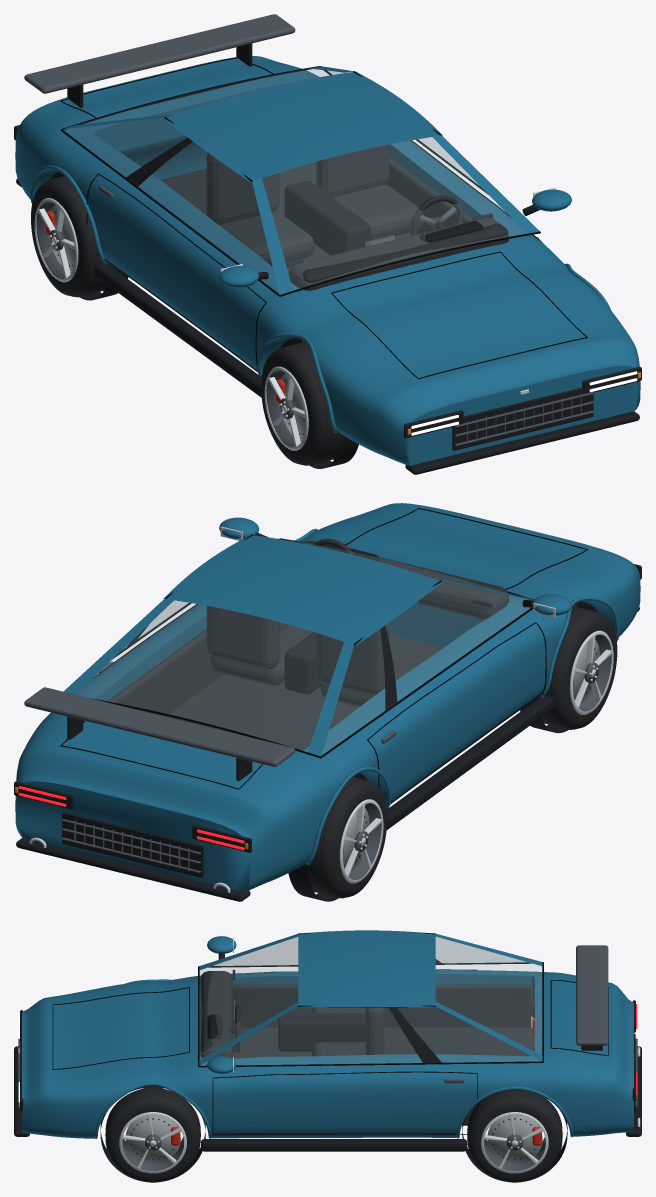
3 views of the same model, one above another, from view 1: azimuth 30°, elevation 25°; view 2: azimuth 150°, elevation 25°; view 3: azimuth 270°, elevation 25° (orthographic). The views are drawn at different scales.
Parts seen in each view (by area): view 1: Sculpted body shell, Windshield, Painted roof, Side glass, Rear aero wing, Interior dashboard, Tire.002, Interior centre console, Tire, Rocker aero sill, Front grille housing, Interior seat back (+27 smaller); view 2: Sculpted body shell, Rear glass, Painted roof, Side glass, Interior cabin floor, Rear aero wing, Interior door card.001, Tire, Tire.002, Interior seat back.001, Rear diffuser grille, Rocker aero sill (+28 smaller); view 3: Sculpted body shell, Side glass.001, Painted roof, Rear glass, Interior door card, Windshield, Interior cabin floor, Tire.003, Tire.001, Rocker aero sill.001, Rear aero wing, Interior centre console (+30 smaller).
Boxes of the visible parts, x1,y1,x2,y2 form: Sculpted body shell: (15,56,640,465); Windshield: (262,137,525,290); Painted roof: (171,72,435,179); Side glass: (64,118,278,293); Rear aero wing: (24,14,295,93); Interior dashboard: (289,217,508,290); Tire.002: (261,342,340,465); Interior centre console: (284,180,371,255); Tire: (31,176,110,297); Rocker aero sill: (94,263,261,397); Front grille housing: (452,387,593,450); Interior seat back: (206,152,279,224); Sculpted body shell: (15,503,640,891); Rear glass: (76,600,343,751); Painted roof: (170,536,435,642); Side glass: (322,582,529,754); Interior cabin floor: (165,625,443,750); Rear aero wing: (24,687,295,766); Interior door card.001: (107,622,289,716); Tire: (307,777,387,898); Tire.002: (538,606,617,729); Interior seat back.001: (206,606,279,669); Rear diffuser grille: (62,812,203,877); Rocker aero sill: (386,696,553,829); Sculpted body shell: (22,969,633,1138); Side glass.001: (201,1007,540,1065); Painted roof: (298,931,435,1006); Rear glass: (436,937,541,1054); Interior door card: (232,984,530,1027); Windshield: (200,937,297,1058); Interior cabin floor: (232,1027,534,1058); Tire.003: (105,1087,200,1182); Tire.001: (467,1089,562,1182); Rocker aero sill.001: (201,1139,467,1151); Rear aero wing: (576,945,608,1045); Interior centre console: (278,1013,365,1051).
Size of the model in its own units: 2.35 by 1.37 by 4.67.
